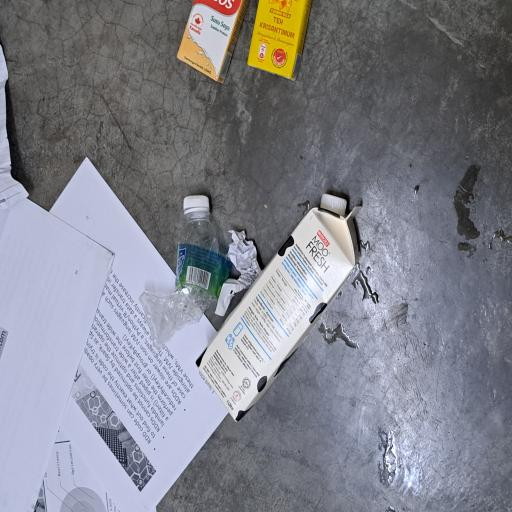drink carton: (68, 260, 232, 484), (322, 234, 384, 334), (323, 329, 384, 416)
paper: (0, 0, 384, 304), (147, 287, 213, 348)
plastic bottle: (123, 185, 226, 305)
plastic bottle cap: (222, 426, 240, 463), (224, 244, 238, 278)
